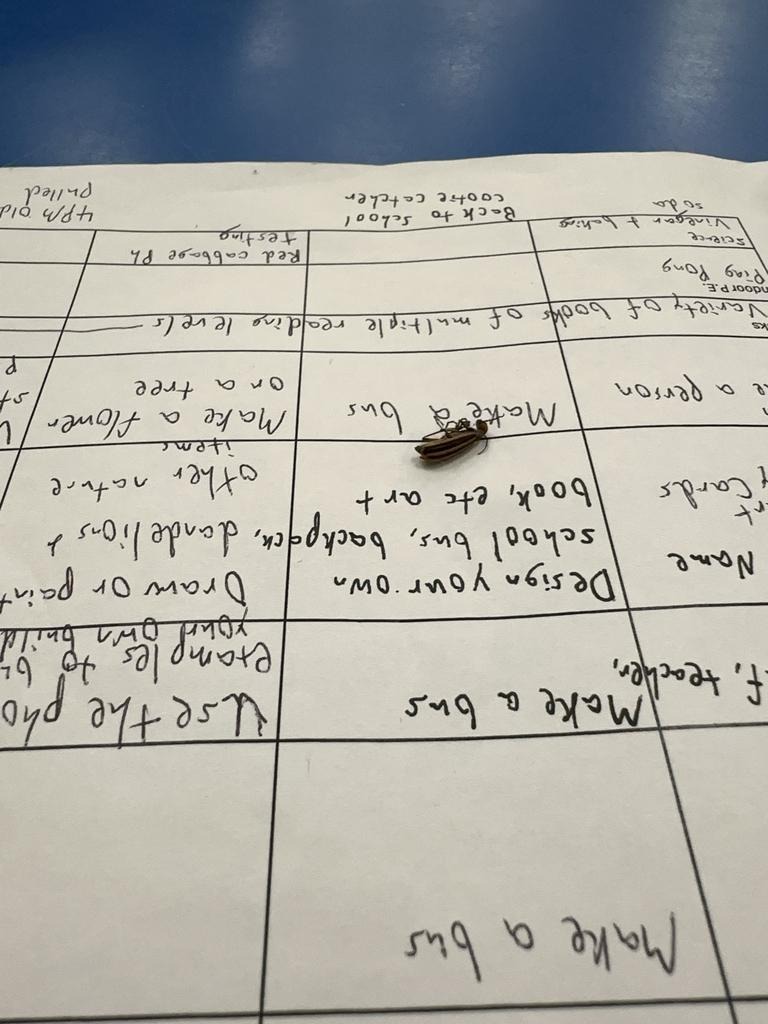blister_beetle: (388, 394, 517, 496)
